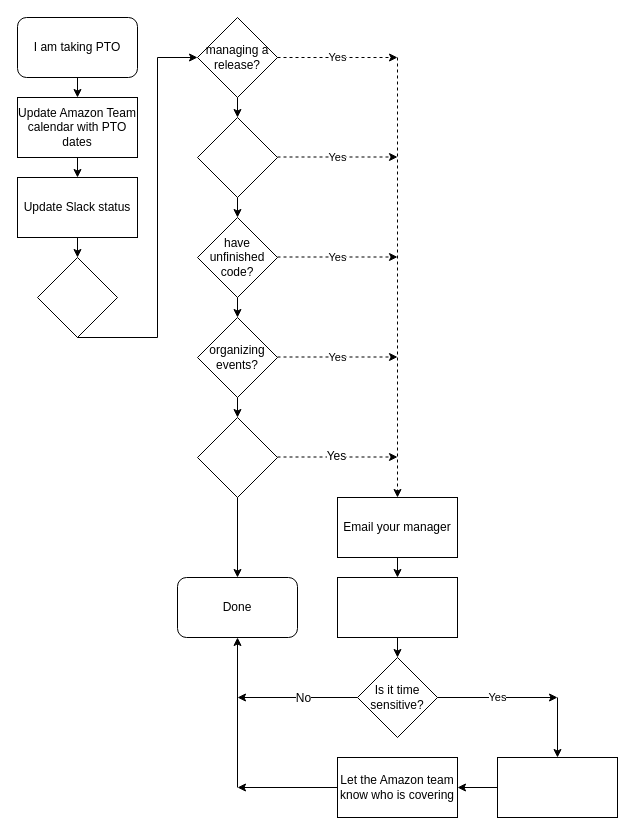
Some shapes in this 635 by 835 pixel diagram are drawn without their labels. The centre of each missing label's shape, as x and y in pixels:
Am / do I...?: pixel 77 297
Hand off work: pixel 557 787
Loop in relevant parties: pixel 397 607
on call?: pixel 237 457
working with another team?: pixel 237 157
